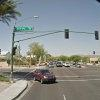Traffic light: (59, 21, 100, 40)
